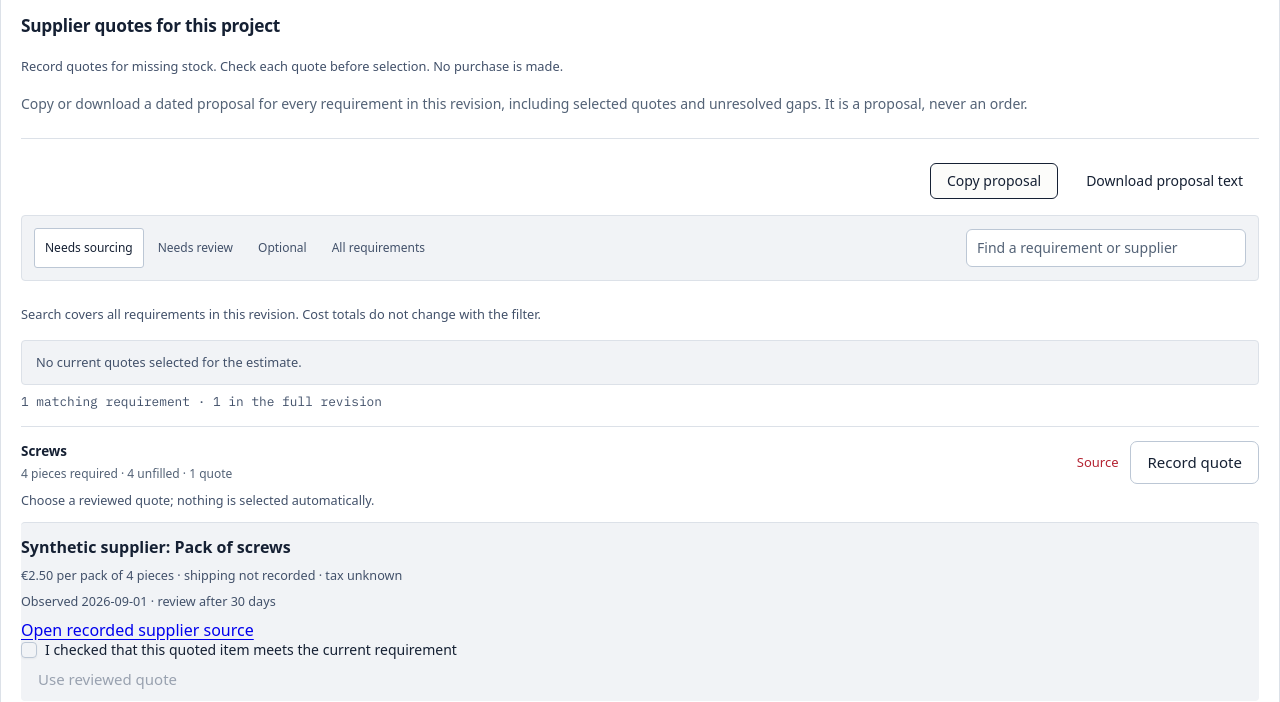
Test case: returns focus after saving with a failed refresh
Click the button with aria-label "Record quote for Screws" at (1195, 462), box [1130,441,1259,484]
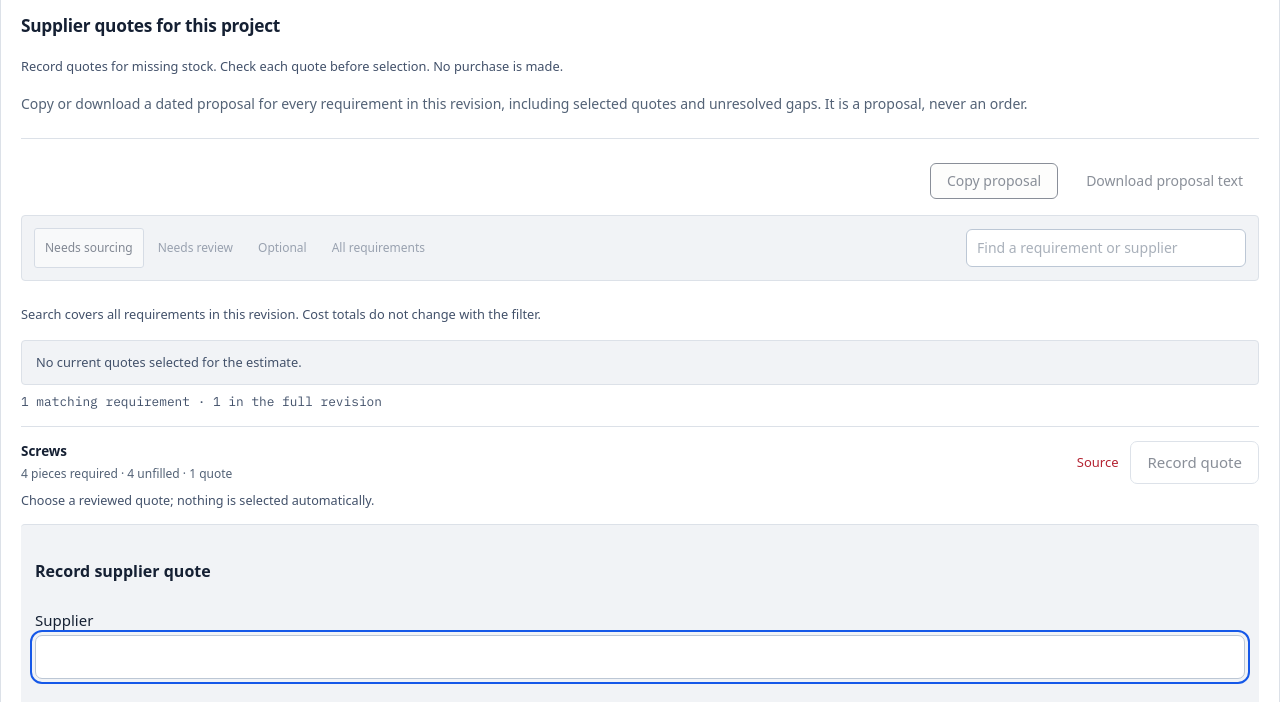
Type "Synthetic supplier" into the field labelled "Supplier" at (640, 657), box [35,635,1245,679]
(page scrolled)
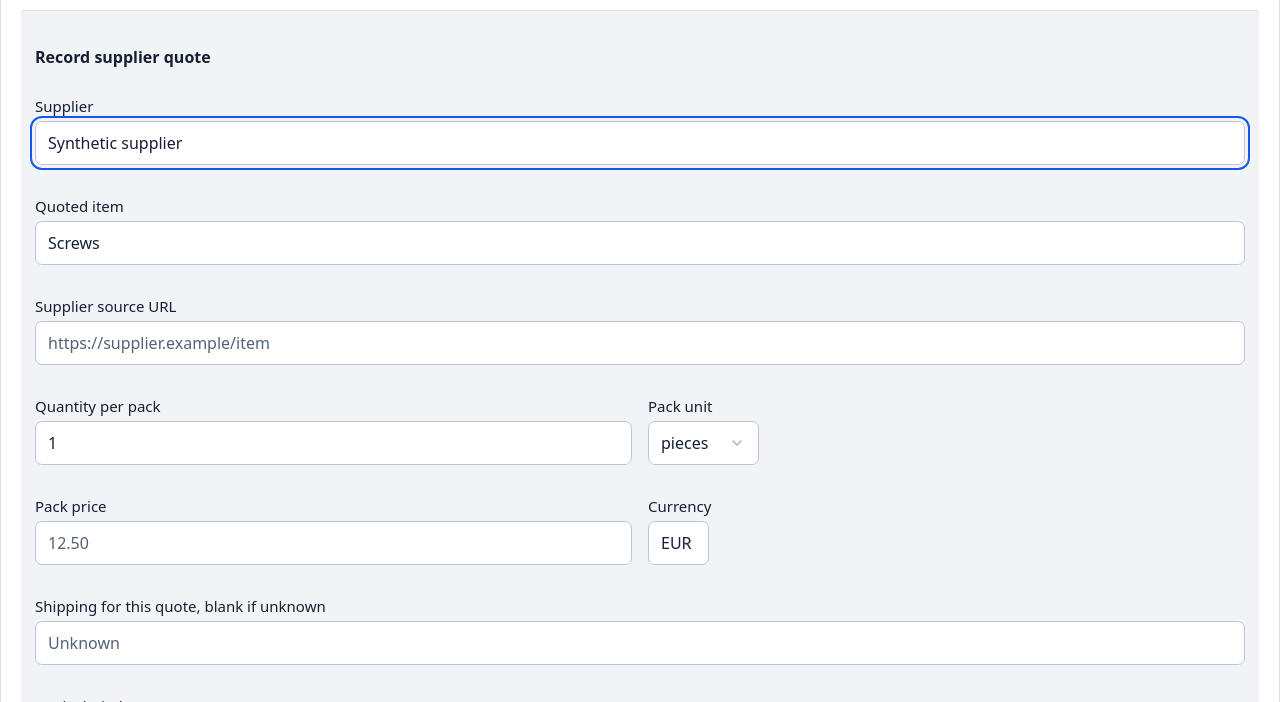
Type "https://supplier.example/screws" into the field labelled "Supplier source URL" at (640, 343), box [35,321,1245,365]
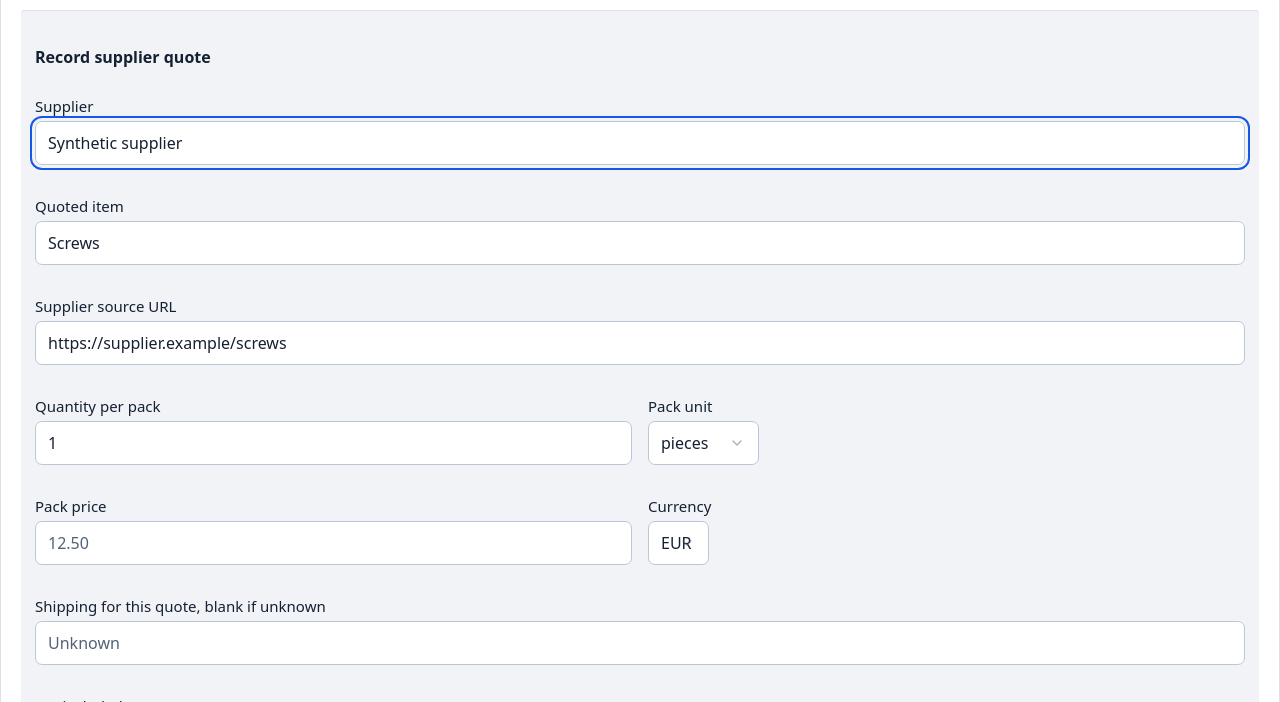
Type "2.50" into the field labelled "Pack price" at (334, 543), box [35,521,632,565]
(page scrolled)
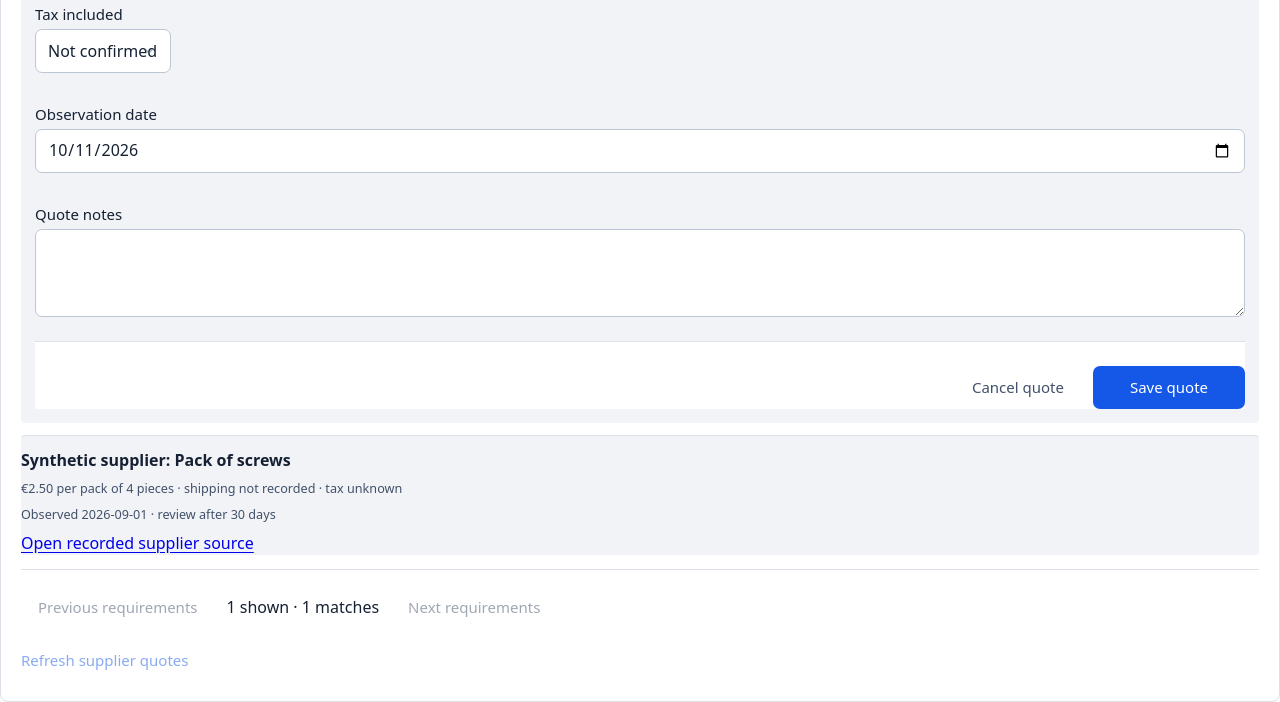
Click the button "Save quote" at (1169, 388), box [1093,366,1245,409]
(page scrolled)
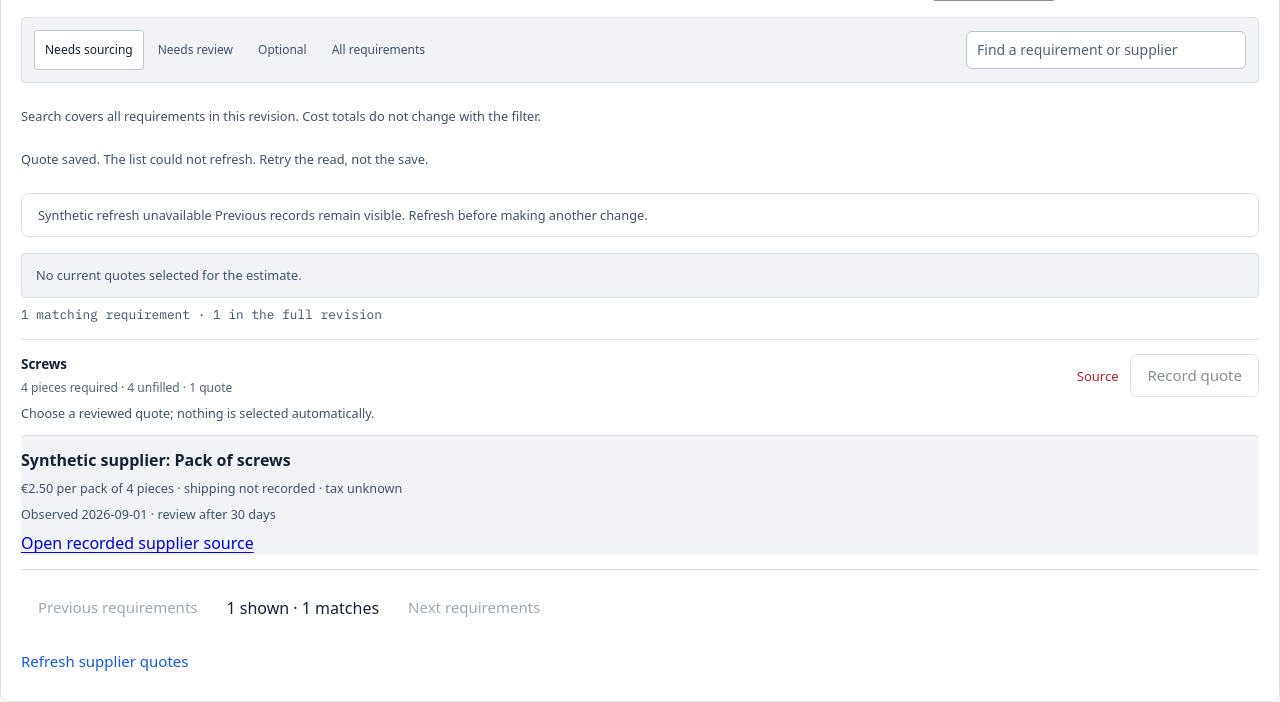
Expected: the button with aria-label "Record quote for Screws" is disabled, [1130,354,1259,398]
Expected: the text "Quote saved. The list could not refresh. Retry the read, not the save." is shown, [21,150,428,168]
